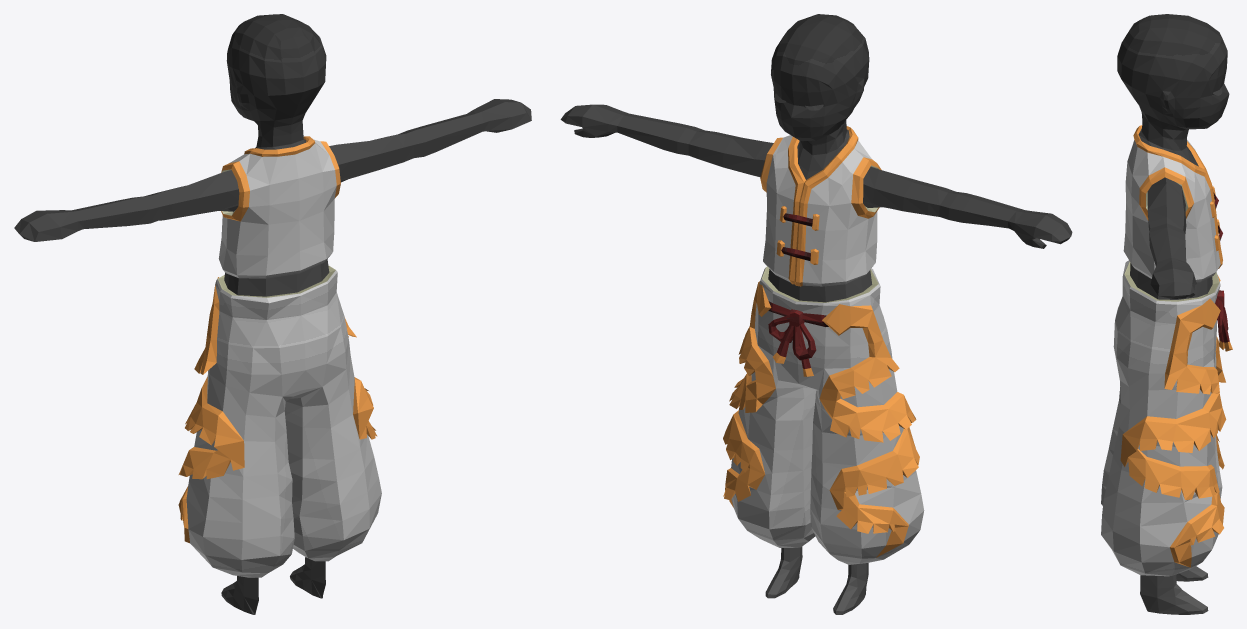
The model's file is CharSkyKid_Body_FortuneSnake.glb.
3 renders of one model, left to right at view 1: azimuth 30°, elevation 25°; view 2: azimuth 150°, elevation 25°; view 3: azimuth 270°, elevation 25°, orthographic.
Parts seen in each view (by area): view 1: CharSkyKid_Body_FortuneSnake; view 2: CharSkyKid_Body_FortuneSnake; view 3: CharSkyKid_Body_FortuneSnake.
Boxes of the visible parts, bbox=[...] form: CharSkyKid_Body_FortuneSnake: bbox=[14, 14, 531, 614]; CharSkyKid_Body_FortuneSnake: bbox=[560, 14, 1072, 614]; CharSkyKid_Body_FortuneSnake: bbox=[1101, 14, 1232, 614].
Bounding box in the file's own units: 13.83 × 14.94 × 3.1.
Materials: 1 (1 with a texture image).
